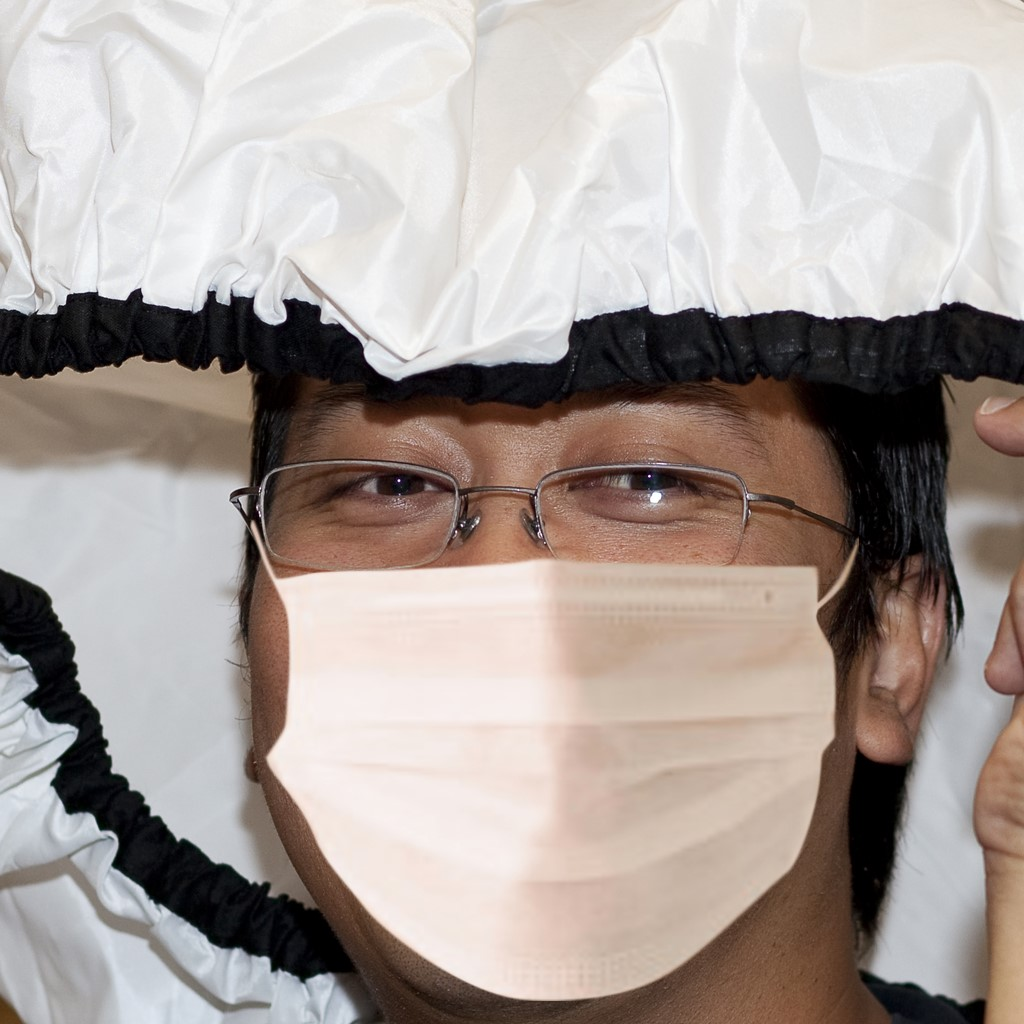con_mascara: (207, 193, 894, 987)
